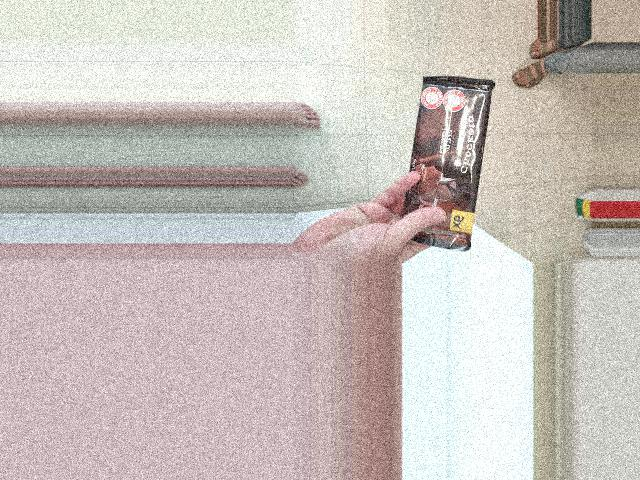chocolate: (383, 76, 494, 255)
